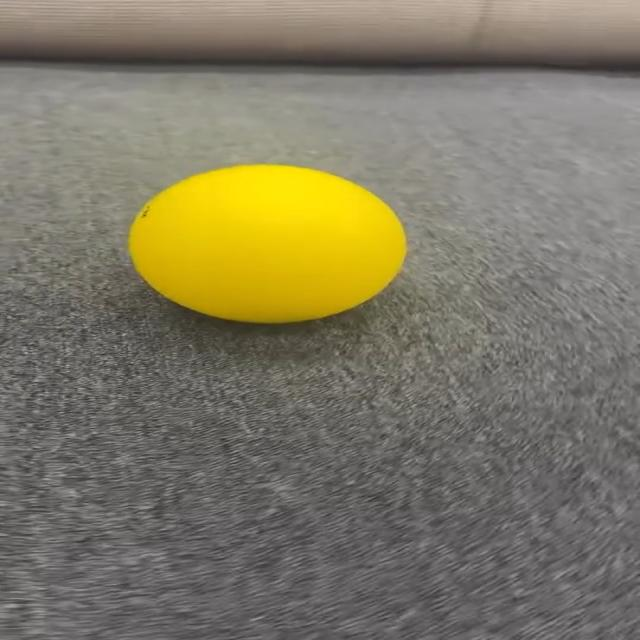Fuels: (130, 165, 404, 320)
